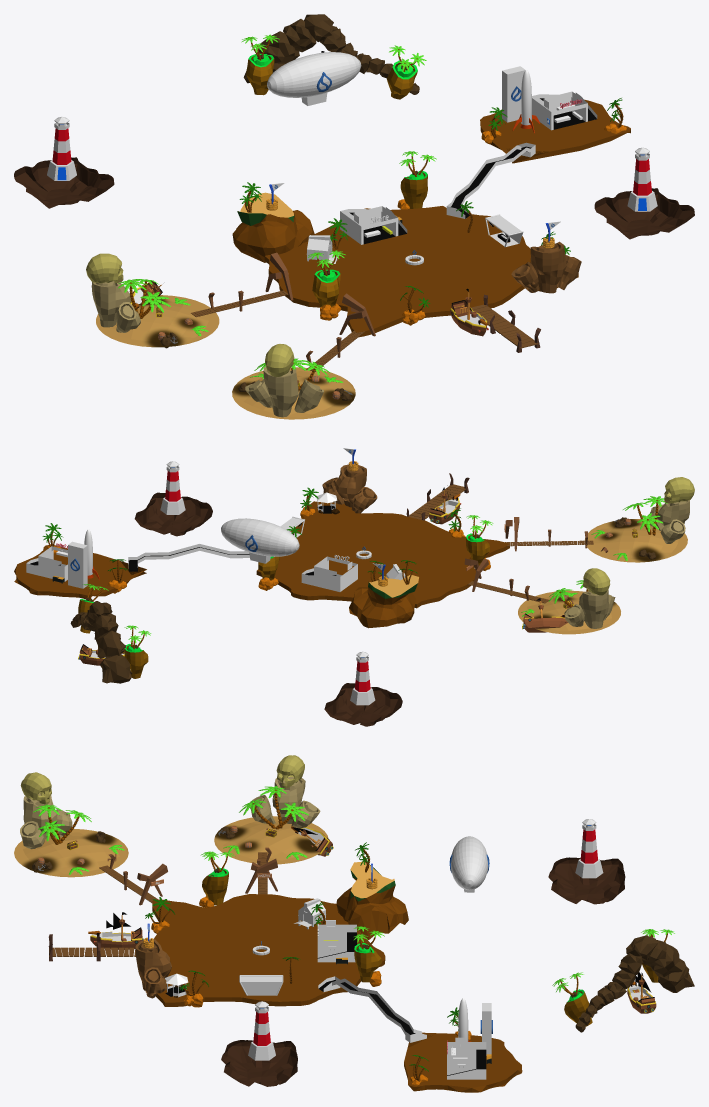
The model's file is main-transformed.glb.
3 views of the same model, one above another, from view 1: azimuth 30°, elevation 25°; view 2: azimuth 150°, elevation 25°; view 3: azimuth 270°, elevation 25° (orthographic). The views are drawn at different scales.
Parts seen in each view (by area): view 1: Ground, Island, bigStone, Sui.003, Circle.007, Cube, Plane, Plane.041, Flag.001, Circle.001, Station.001, Station (+17 smaller); view 2: Ground, Circle.001, Island, bigStone, Cube, Sui.003, Plane, Plane.041, Flag.001, Circle.007, Station.001, Pedestrian bridge1 (+15 smaller); view 3: Ground, Island, Cube, Circle.001, bigStone, Circle.007, Plane, Plane.041, Sui.003, Flag.001, Station, Station.001 (+17 smaller).
Part boxes in pixels (box(x1,y1,x2,y2)): Ground: box(264, 206, 578, 337); Island: box(480, 99, 630, 163); bigStone: box(232, 192, 314, 262); Sui.003: box(267, 52, 361, 105); Circle.007: box(96, 295, 219, 347); Cube: box(243, 14, 419, 94); Plane: box(594, 188, 694, 239); Plane.041: box(14, 157, 114, 208); Flag.001: box(511, 221, 581, 293); Circle.001: box(232, 367, 355, 419); Station.001: box(340, 206, 407, 244); Station: box(532, 91, 597, 130); Ground: box(256, 501, 509, 608); Circle.001: box(584, 519, 687, 562); Island: box(14, 545, 146, 599); bigStone: box(349, 574, 418, 628); Cube: box(70, 601, 132, 683); Sui.003: box(221, 518, 299, 563); Plane: box(134, 492, 212, 536); Plane.041: box(324, 683, 402, 726); Flag.001: box(322, 448, 377, 513); Circle.007: box(518, 590, 620, 634); Station.001: box(301, 556, 357, 591); Pedestrian bridge1: box(128, 544, 249, 571); Ground: box(152, 894, 385, 1006); Island: box(404, 1032, 522, 1092); Cube: box(575, 935, 694, 1032); Circle.001: box(14, 829, 128, 877); bigStone: box(336, 861, 408, 939); Circle.007: box(214, 816, 328, 864); Plane: box(221, 1040, 297, 1086); Plane.041: box(548, 857, 625, 904); Sui.003: box(449, 836, 489, 892); Flag.001: box(135, 923, 171, 998); Station: box(447, 1037, 486, 1079); Station.001: box(317, 920, 356, 962).
Size of the model in its own units: 133 by 29.67 by 138.
55 materials, 1 textured.
